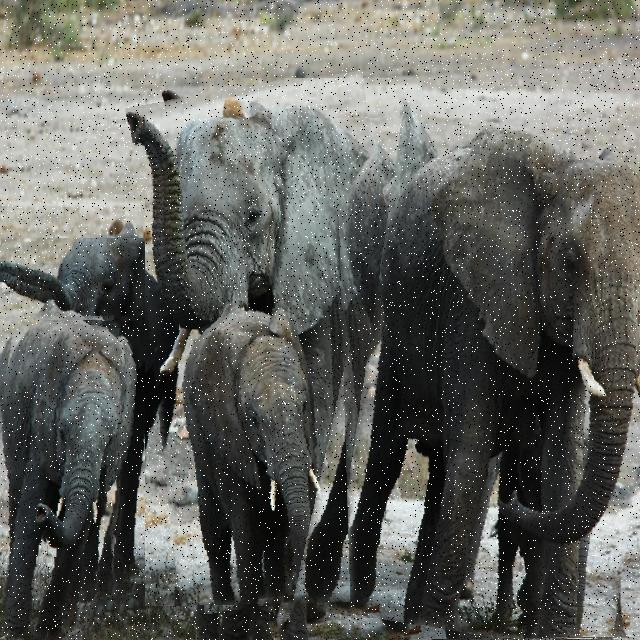elephant: (336, 118, 640, 640), (145, 78, 423, 607), (0, 238, 199, 599), (0, 319, 141, 640)
